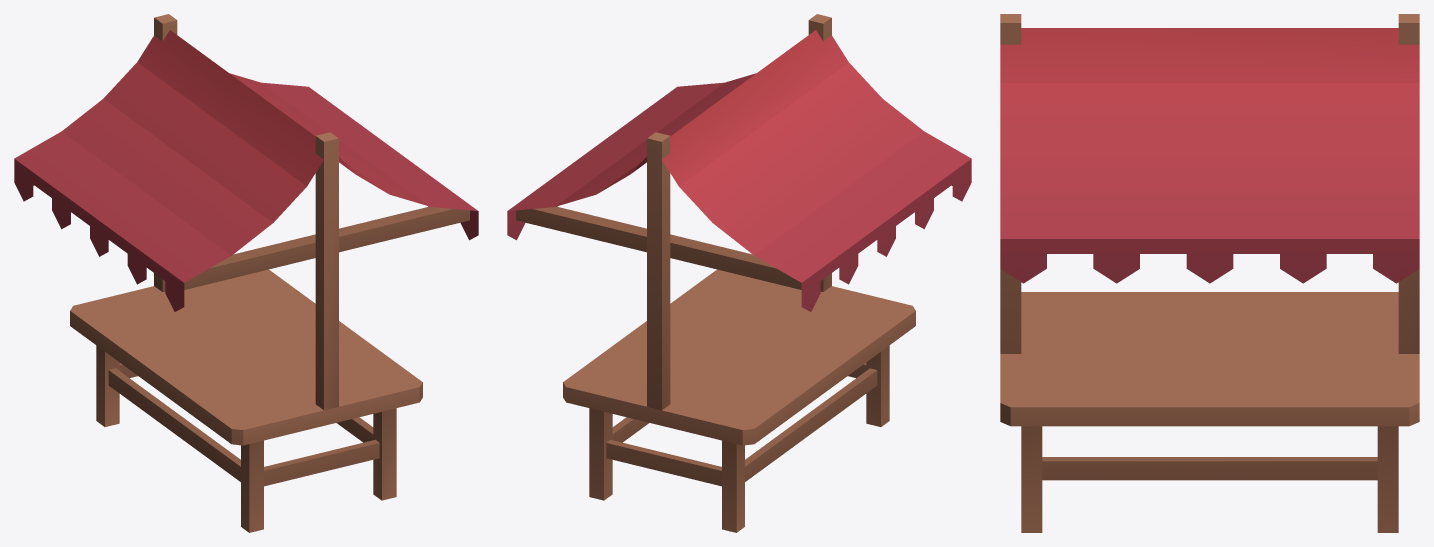
Rendered from fw_market_stall.glb.
3 views of the same model, side by side, from view 1: azimuth 30°, elevation 25°; view 2: azimuth 150°, elevation 25°; view 3: azimuth 270°, elevation 25° (orthographic). The views are drawn at different scales.
Visible parts, largest first — view 1: body; view 2: body; view 3: body.
Part boxes in pixels (x1,y1,x2,y2): body: (14, 14, 478, 532); body: (507, 14, 971, 532); body: (1000, 14, 1419, 532).
Bounding box in the file's own units: 1.8 × 2.23 × 1.8.
